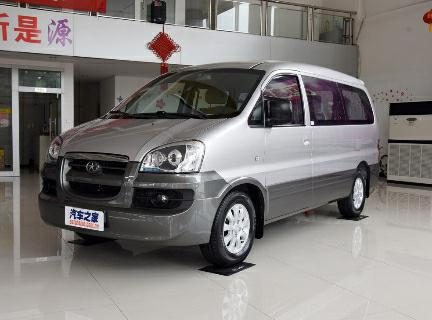江淮-瑞风: (34, 56, 388, 276)
